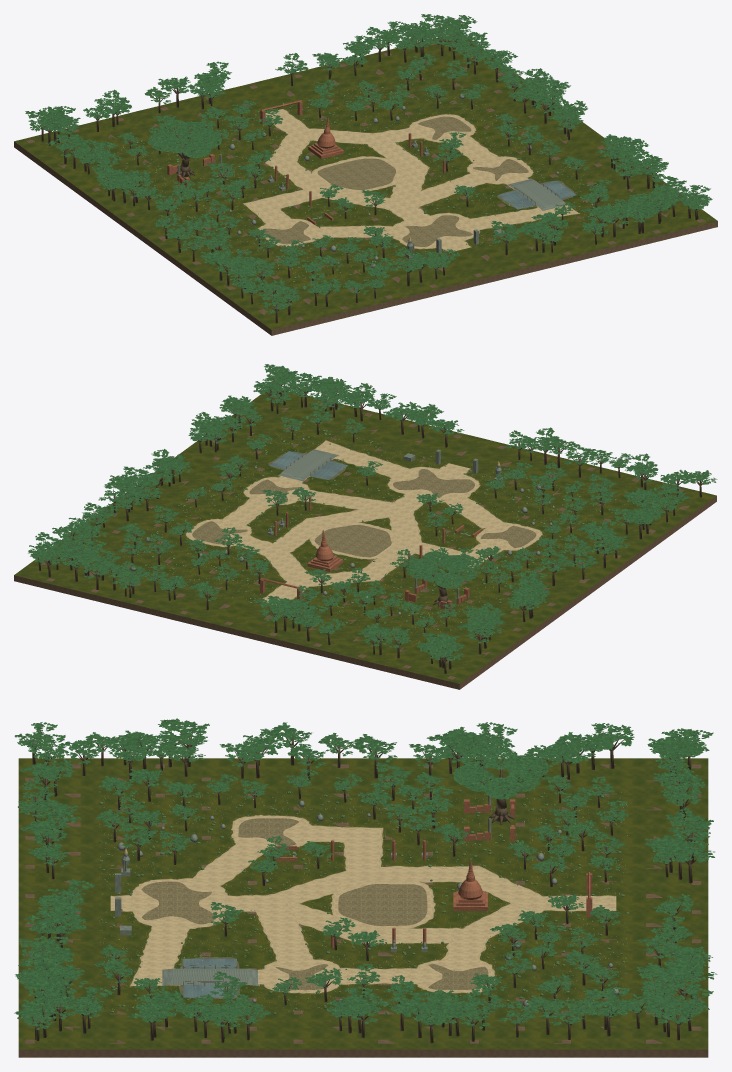
The model's file is ruined-temple.glb.
3 renders of one model, top to bottom at view 1: azimuth 30°, elevation 25°; view 2: azimuth 150°, elevation 25°; view 3: azimuth 270°, elevation 25°, orthographic. The views are drawn at different scales.
Visible parts, largest first — view 1: Ground - varied meadow | ground_ruined_temple, Tracks - worn earth | path, Soil foundation | earth, Courtyard paving | paving_old, Feathered road shoulders | path_edge, Fine leafy canopy twigs | leaf, Organic understory shrubs | leaf4, Organic understory shrubs | leaf, Fine leafy canopy twigs | leafLight, Bridge continuous deck | stone, Water surface 00 | water; view 2: Ground - varied meadow | ground_ruined_temple, Tracks - worn earth | path, Soil foundation | earth, Courtyard paving | paving_old, Feathered road shoulders | path_edge, Fine leafy canopy twigs | leaf, Organic understory shrubs | leaf2, Water surface 00 | water, Bridge continuous deck | stone, Fine leafy canopy twigs | leafLight, Organic understory shrubs | leaf4, Organic understory shrubs | leaf; view 3: Ground - varied meadow | ground_ruined_temple, Tracks - worn earth | path, Soil foundation | earth, Courtyard paving | paving_old, Feathered road shoulders | path_edge, Fine leafy canopy twigs | leaf, Organic understory shrubs | leaf, Fine leafy canopy twigs | leafLight, Bridge continuous deck | stone, Water surface 00 | water, Organic understory shrubs | leaf2, Organic understory shrubs | leaf4.
Boxes of the visible parts, x1=… form: Ground - varied meadow | ground_ruined_temple: x1=14, y1=38, x2=717, y2=329; Tracks - worn earth | path: x1=246, y1=109, x2=576, y2=251; Soil foundation | earth: x1=14, y1=43, x2=717, y2=335; Courtyard paving | paving_old: x1=264, y1=116, x2=528, y2=246; Feathered road shoulders | path_edge: x1=243, y1=109, x2=579, y2=252; Fine leafy canopy twigs | leaf: x1=151, y1=119, x2=221, y2=153; Organic understory shrubs | leaf4: x1=109, y1=71, x2=613, y2=290; Organic understory shrubs | leaf: x1=109, y1=71, x2=614, y2=294; Fine leafy canopy twigs | leafLight: x1=148, y1=129, x2=219, y2=158; Bridge continuous deck | stone: x1=511, y1=180, x2=563, y2=207; Water surface 00 | water: x1=498, y1=180, x2=576, y2=209; Ground - varied meadow | ground_ruined_temple: x1=14, y1=391, x2=716, y2=683; Tracks - worn earth | path: x1=188, y1=442, x2=539, y2=605; Soil foundation | earth: x1=14, y1=392, x2=716, y2=689; Courtyard paving | paving_old: x1=192, y1=469, x2=536, y2=557; Feathered road shoulders | path_edge: x1=185, y1=440, x2=543, y2=599; Fine leafy canopy twigs | leaf: x1=406, y1=551, x2=479, y2=581; Organic understory shrubs | leaf2: x1=125, y1=429, x2=633, y2=642; Water surface 00 | water: x1=269, y1=451, x2=347, y2=479; Bridge continuous deck | stone: x1=282, y1=451, x2=334, y2=477; Fine leafy canopy twigs | leafLight: x1=409, y1=555, x2=467, y2=588; Organic understory shrubs | leaf4: x1=126, y1=429, x2=633, y2=642; Organic understory shrubs | leaf: x1=136, y1=429, x2=632, y2=636; Ground - varied meadow | ground_ruined_temple: x1=18, y1=758, x2=708, y2=1049; Tracks - worn earth | path: x1=110, y1=816, x2=616, y2=992; Soil foundation | earth: x1=18, y1=764, x2=708, y2=1057; Courtyard paving | paving_old: x1=141, y1=818, x2=488, y2=990; Feathered road shoulders | path_edge: x1=110, y1=814, x2=616, y2=993; Fine leafy canopy twigs | leaf: x1=461, y1=747, x2=549, y2=791; Organic understory shrubs | leaf: x1=98, y1=790, x2=627, y2=1015; Fine leafy canopy twigs | leafLight: x1=452, y1=755, x2=538, y2=799; Bridge continuous deck | stone: x1=171, y1=968, x2=248, y2=984; Water surface 00 | water: x1=183, y1=958, x2=236, y2=997; Organic understory shrubs | leaf2: x1=99, y1=790, x2=629, y2=1014; Organic understory shrubs | leaf4: x1=99, y1=789, x2=627, y2=1013.
Bounding box in the file's own units: 185 × 19.45 × 184.
29 materials, 24 textured.
